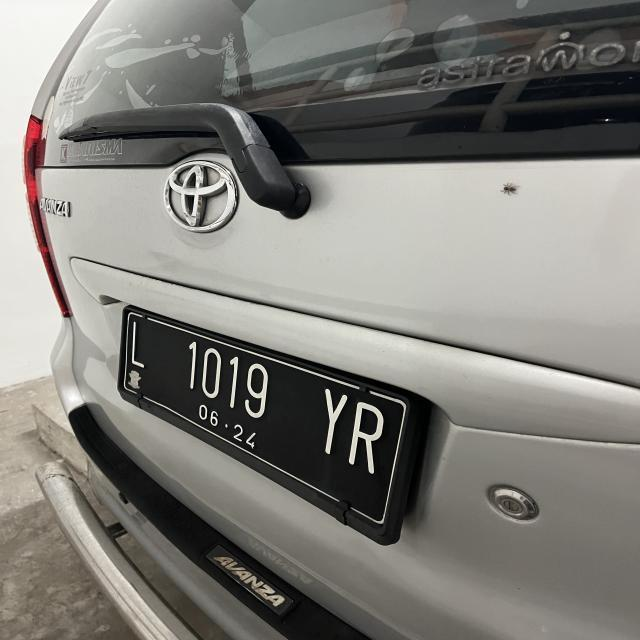0: (202, 343, 222, 403)
1: (229, 350, 241, 410), (186, 338, 196, 388)
9: (247, 363, 270, 419)
L: (128, 317, 150, 374)
R: (349, 401, 382, 474)
Y: (320, 388, 343, 458)
